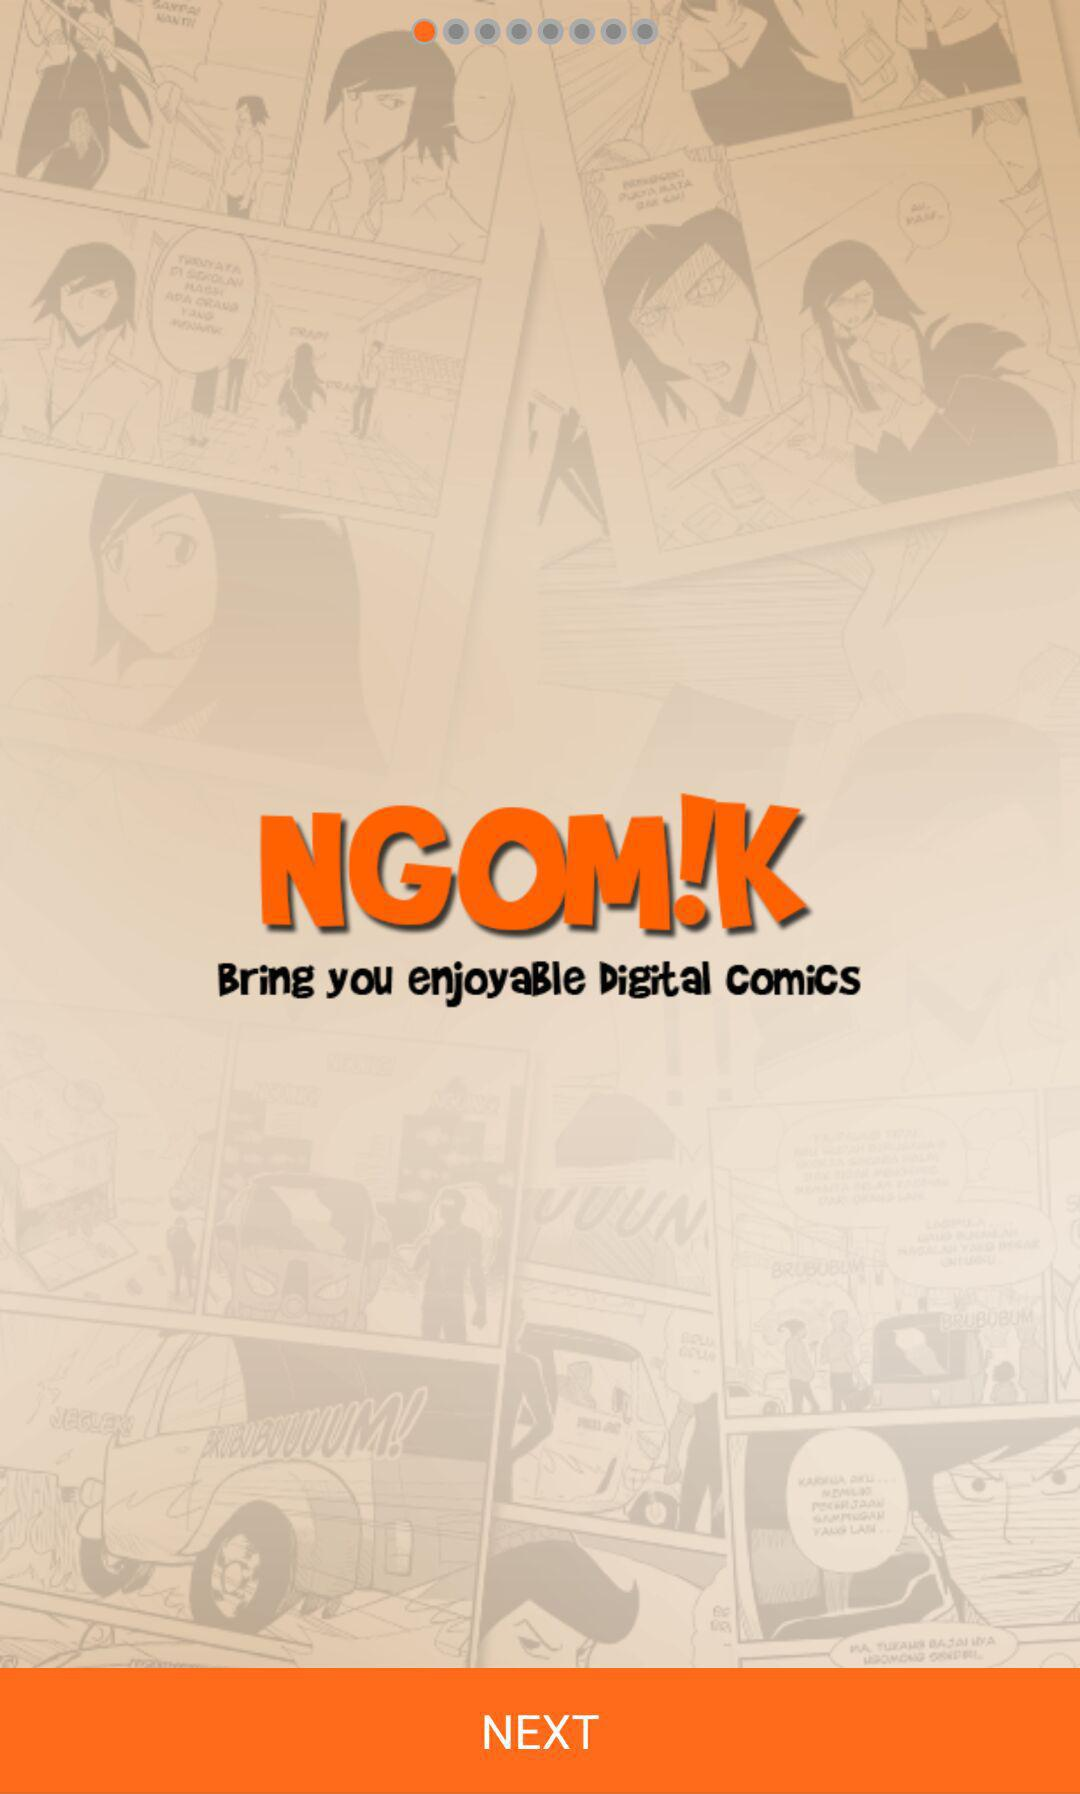BackgroundImage: (1, 1, 1080, 1668)
Image: (259, 793, 808, 935)
PageIndicator: (409, 18, 659, 47)
Text: (217, 960, 862, 1008)
TextButton: (1, 1668, 1080, 1794)
